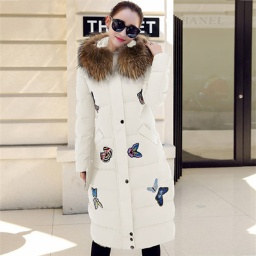face: (97, 1, 156, 64)
